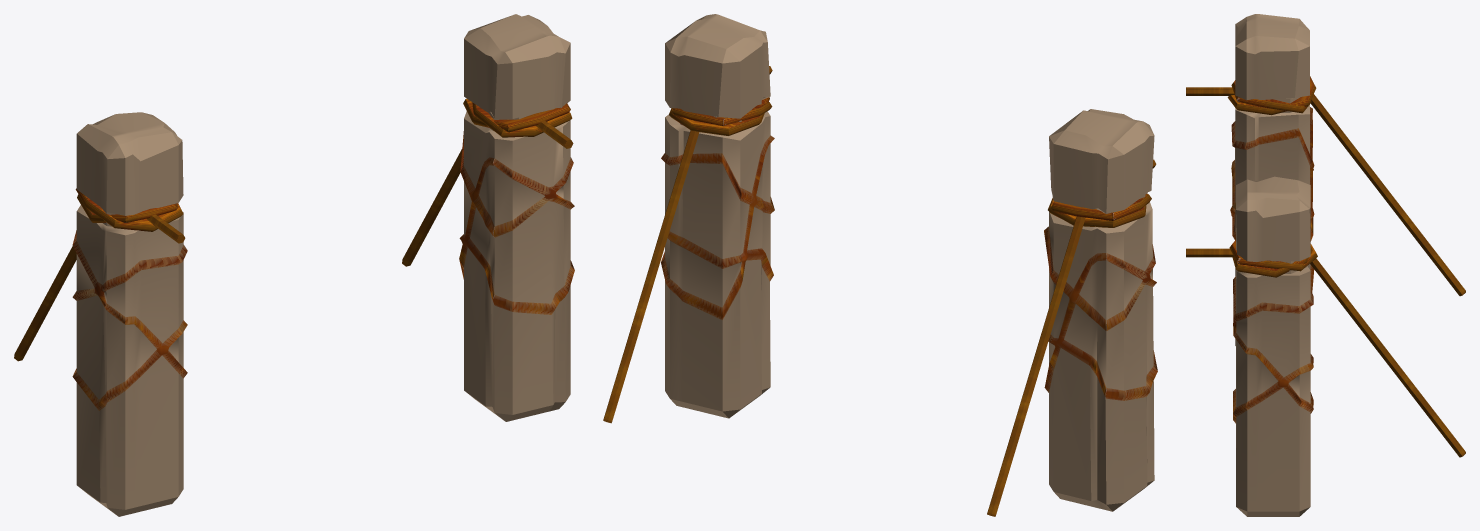
The model's file is gimmicks_bridge_poles.fbx.
3 renders of one model, left to right at view 1: azimuth 30°, elevation 25°; view 2: azimuth 150°, elevation 25°; view 3: azimuth 270°, elevation 25°, orthographic. The views are drawn at different scales.
Visible parts, largest first — view 1: pCube63; view 2: pCube63; view 3: pCube63.
Boxes of the visible parts, x1=… form: pCube63: x1=14, y1=14, x2=574, y2=516; pCube63: x1=603, y1=14, x2=1157, y2=516; pCube63: x1=1186, y1=14, x2=1465, y2=516.
Size of the model in its own units: 167 by 127 by 101.
